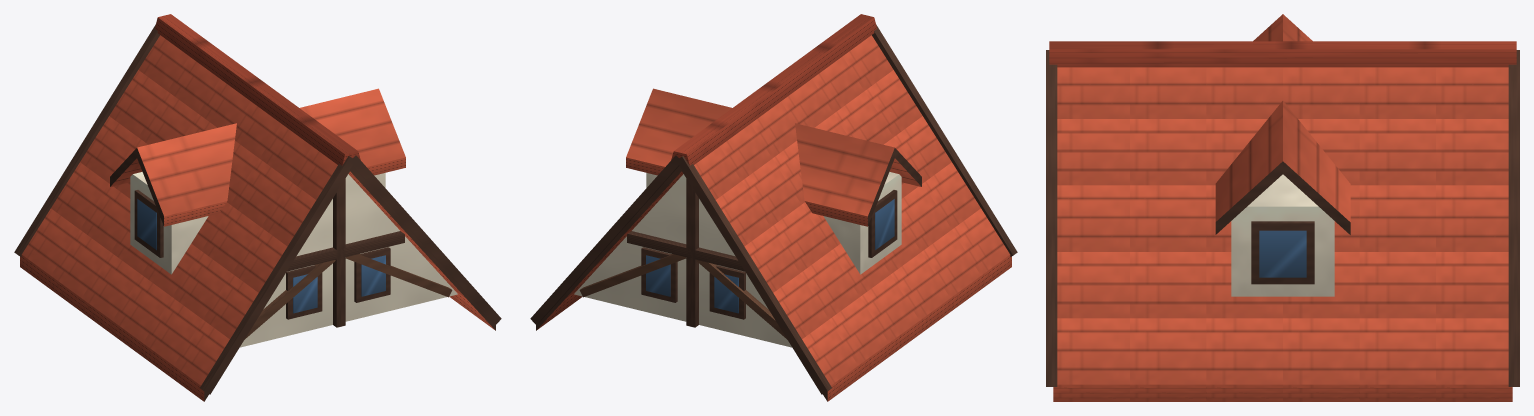
The model's file is bld_roof_a_6x6.glb.
The picture shows the model from 3 angles, left to right: view 1: azimuth 30°, elevation 25°; view 2: azimuth 150°, elevation 25°; view 3: azimuth 270°, elevation 25°; orthographic projection. The views are drawn at different scales.
Visible parts, largest first — view 1: bld_roof_a_6x6; view 2: bld_roof_a_6x6; view 3: bld_roof_a_6x6.
Boxes of the visible parts, left/top/right/bottom form: bld_roof_a_6x6: left=14, top=14, right=501, bottom=401; bld_roof_a_6x6: left=530, top=14, right=1017, bottom=401; bld_roof_a_6x6: left=1046, top=14, right=1519, bottom=401.
Bounding box in the file's own units: 5.4 × 3.72 × 5.97.
Materials: 1 (1 with a texture image).
